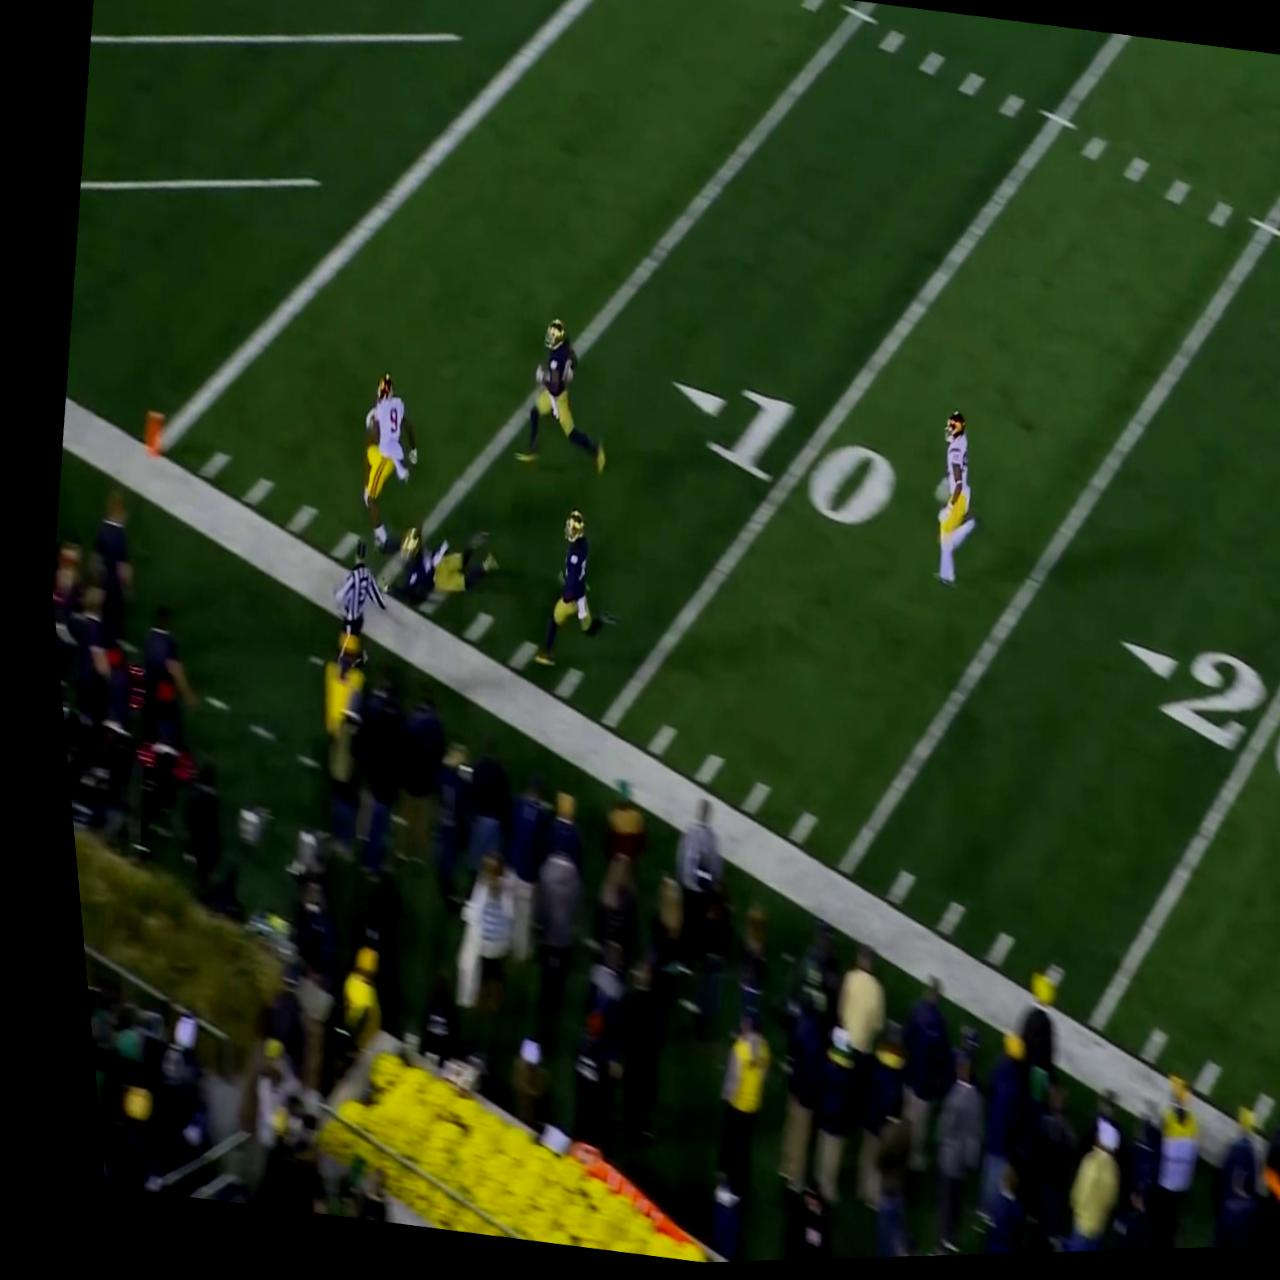10L: (644, 372, 904, 544)
20L: (1085, 635, 1280, 815)
